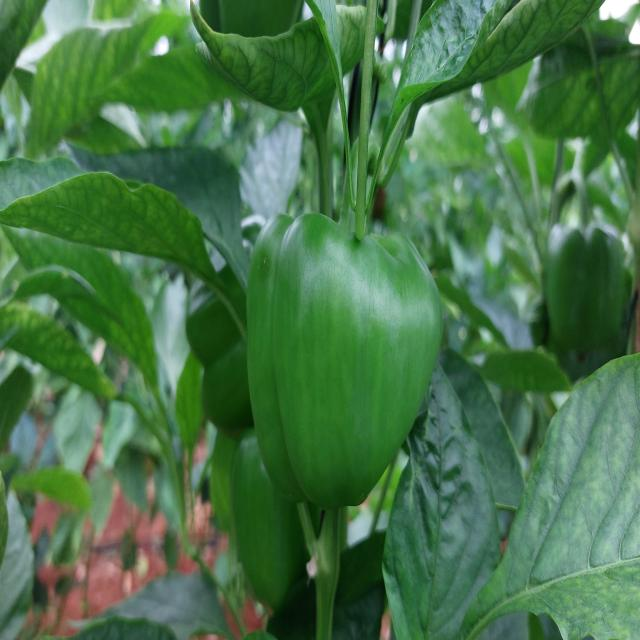Green--Not-ready-to-harvest: (245, 216, 447, 514)
